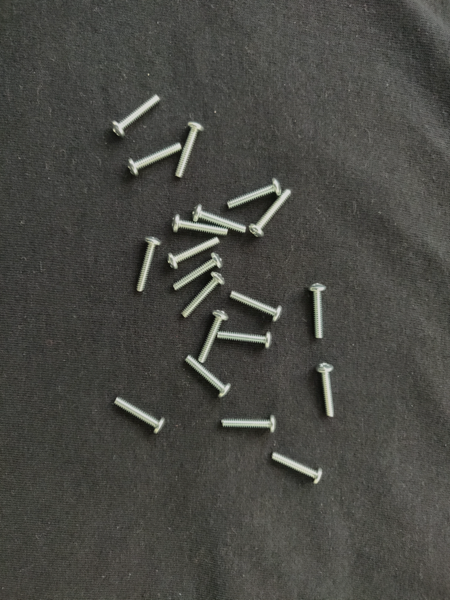longscrew: (182, 353, 229, 399), (115, 396, 166, 438), (269, 451, 325, 489), (173, 249, 223, 289), (179, 275, 226, 317), (251, 190, 293, 237), (226, 290, 284, 324), (195, 312, 228, 364), (228, 176, 281, 208), (136, 237, 164, 293), (195, 203, 246, 233), (170, 236, 219, 267), (179, 123, 202, 176), (170, 215, 228, 235), (309, 281, 327, 339), (318, 364, 335, 422), (216, 330, 272, 347), (222, 417, 279, 431)
